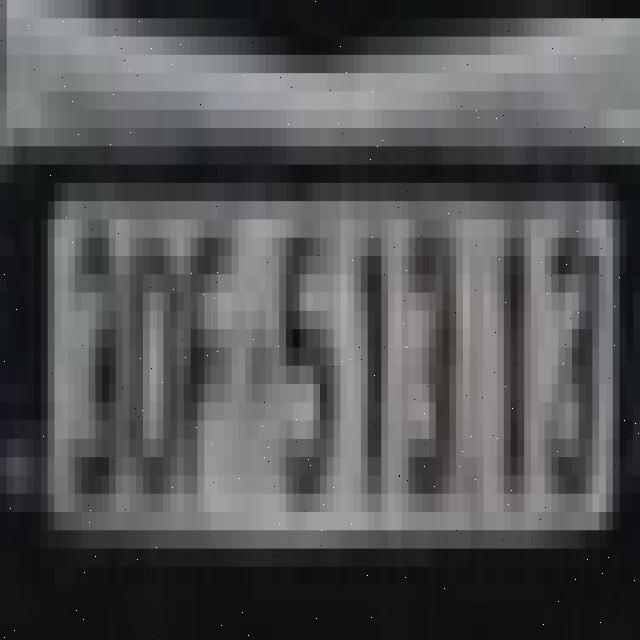0: (126, 228, 180, 503)
1: (487, 210, 534, 503), (351, 219, 392, 512)
3: (58, 210, 119, 503), (402, 210, 463, 503), (545, 219, 606, 494)
5: (279, 219, 341, 512)
F: (180, 228, 242, 503)
